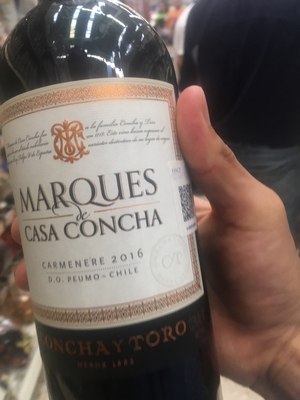marques de casa concha carmenere: (4, 22, 222, 396)
